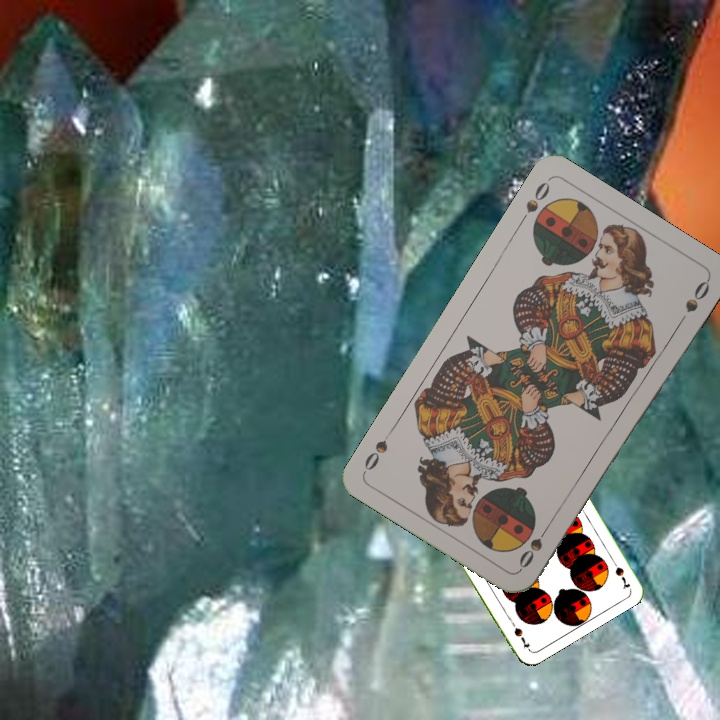S7: (606, 553, 633, 592)
SO: (514, 519, 554, 572), (514, 177, 553, 228)
